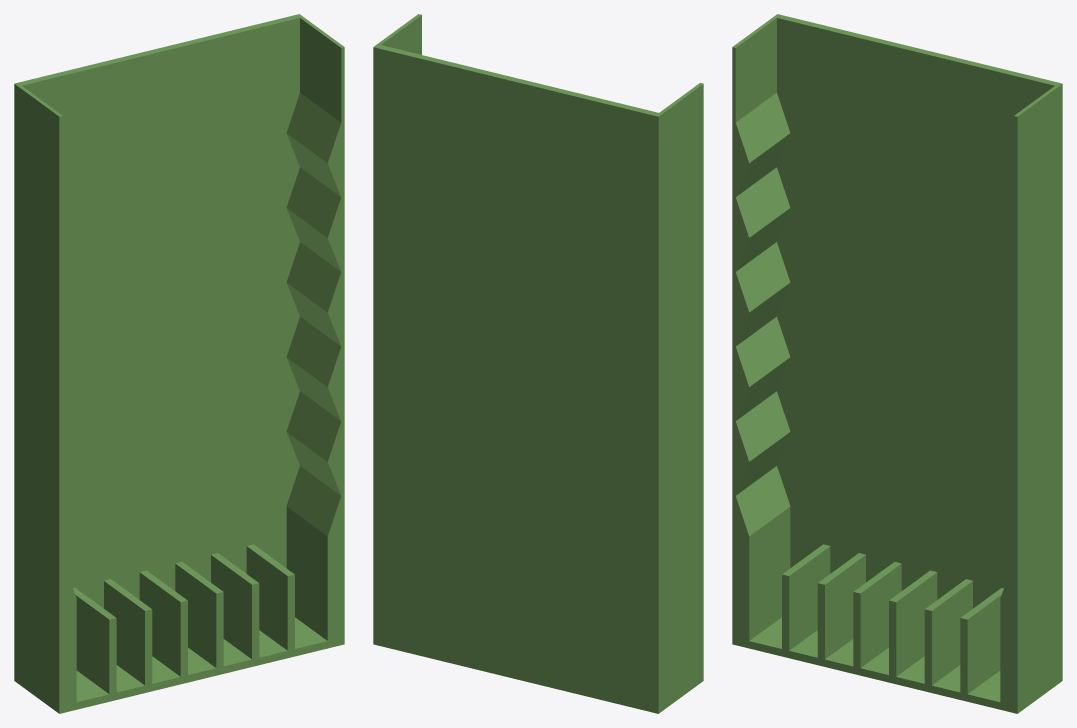
The model's file is board.obj.
3 renders of one model, left to right at view 1: azimuth 30°, elevation 25°; view 2: azimuth 150°, elevation 25°; view 3: azimuth 330°, elevation 25°, orthographic.
Visible parts, largest first — view 1: Cube.002_Cube.008; view 2: Cube.002_Cube.008; view 3: Cube.002_Cube.008.
Part boxes in pixels (left/top/right/bottom): Cube.002_Cube.008: left=14, top=14, right=344, bottom=713; Cube.002_Cube.008: left=373, top=14, right=703, bottom=713; Cube.002_Cube.008: left=732, top=14, right=1062, bottom=713.
Size of the model in its own units: 4 by 8 by 1.1.
